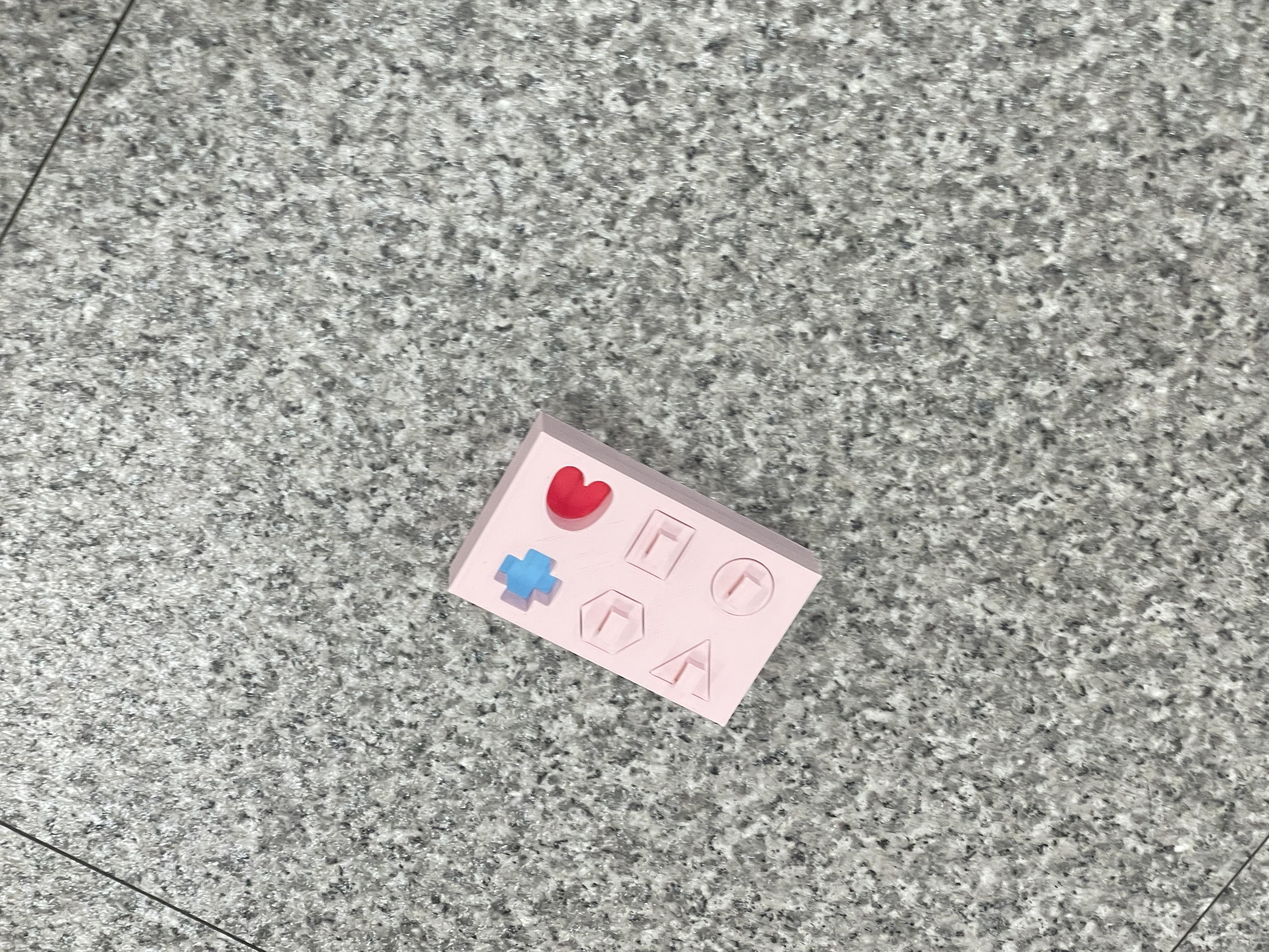unsolved: (439, 424, 826, 739)
